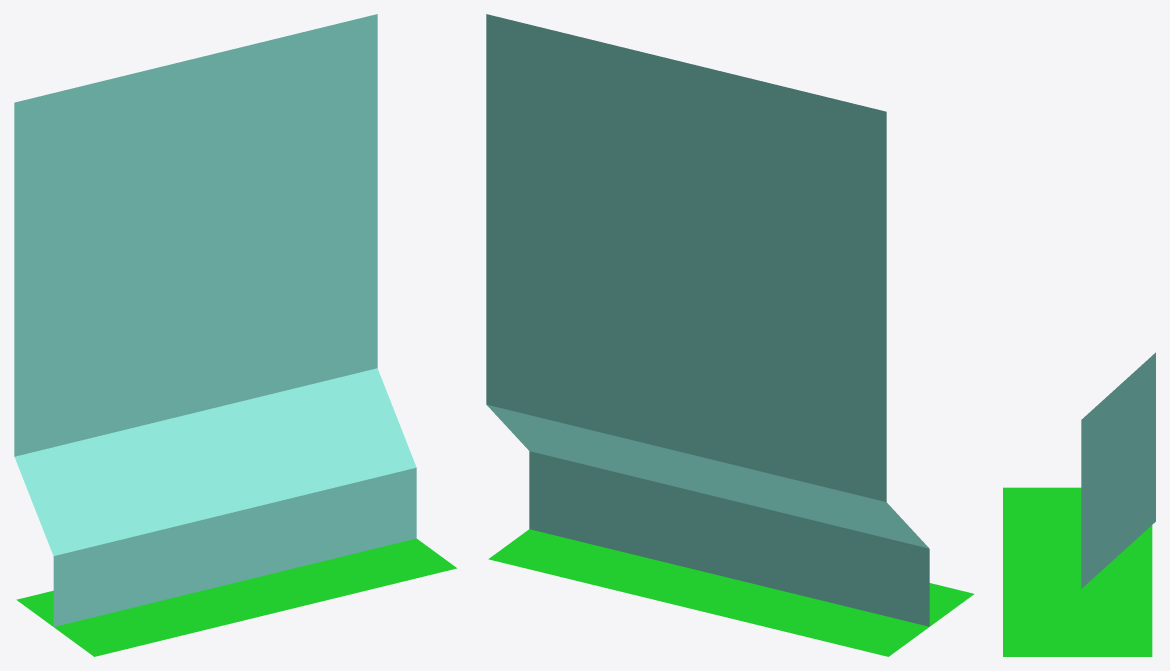
The model's file is Extra_Small_Wall.fbx.
3 views of the same model, side by side, from view 1: azimuth 30°, elevation 25°; view 2: azimuth 150°, elevation 25°; view 3: azimuth 270°, elevation 25° (orthographic). The views are drawn at different scales.
Parts seen in each view (by area): view 1: Wall.010; view 2: Wall.010; view 3: Wall.010.
Boxes of the visible parts, x1=… form: Wall.010: x1=14, y1=14, x2=456, y2=656; Wall.010: x1=486, y1=14, x2=973, y2=656; Wall.010: x1=1003, y1=352, x2=1155, y2=656.
Size of the model in its own units: 537 by 700 by 205.
